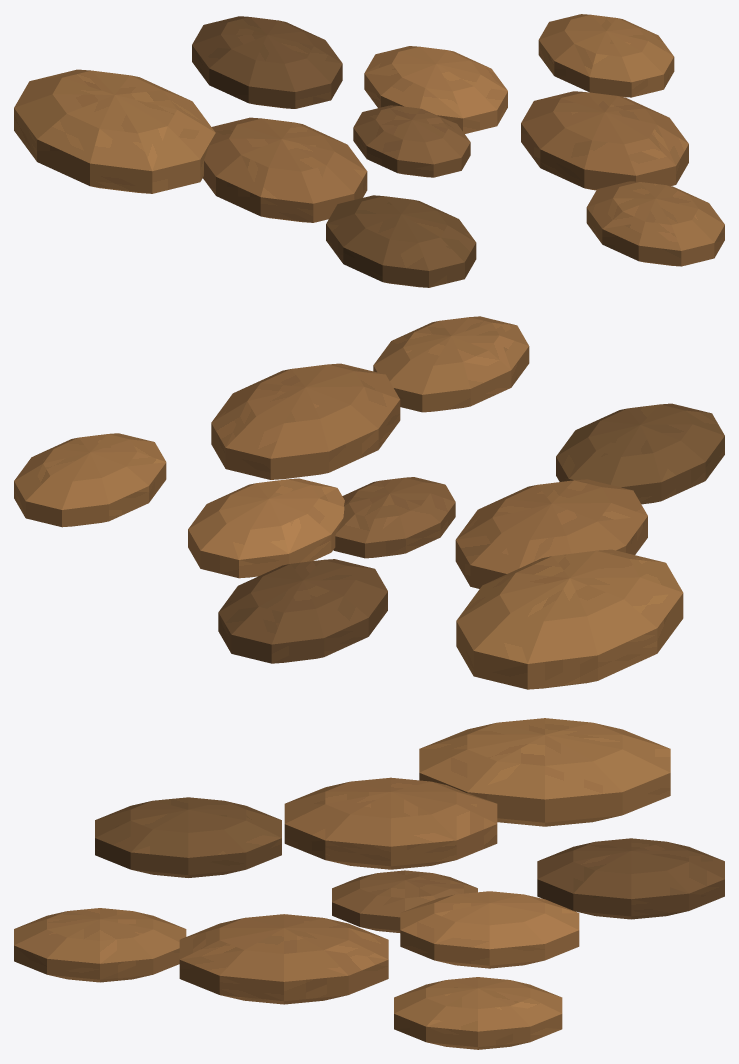
File: seed_barley.glb
3 renders of one model, top to bottom at view 1: azimuth 30°, elevation 25°; view 2: azimuth 150°, elevation 25°; view 3: azimuth 270°, elevation 25°, orthographic. The views are drawn at different scales.
Parts seen in each view (by area): view 1: block_grain 7, block_grain 2, block_grain 3, block_grain 4, block_grain 5, block_grain 8, block_grain 6, block_grain 1, block_grain 0; view 2: block_grain 7, block_grain 3, block_grain 4, block_grain 2, block_grain 5, block_grain 1, block_grain 6, block_grain 8, block_grain 0; view 3: block_grain 7, block_grain 2, block_grain 3, block_grain 4, block_grain 5, block_grain 1, block_grain 8, block_grain 6, block_grain 0.
Part boxes in pixels (bbox=[...]): block_grain 7: bbox=[14, 69, 215, 193]; block_grain 2: bbox=[203, 117, 367, 222]; block_grain 3: bbox=[521, 91, 688, 190]; block_grain 4: bbox=[192, 16, 342, 108]; block_grain 5: bbox=[326, 195, 476, 287]; block_grain 8: bbox=[586, 181, 724, 266]; block_grain 6: bbox=[538, 14, 674, 97]; block_grain 1: bbox=[364, 46, 507, 133]; block_grain 0: bbox=[353, 105, 470, 177]; block_grain 7: bbox=[456, 549, 683, 689]; block_grain 3: bbox=[211, 363, 400, 479]; block_grain 4: bbox=[218, 559, 387, 663]; block_grain 2: bbox=[455, 479, 647, 588]; block_grain 5: bbox=[556, 403, 724, 504]; block_grain 1: bbox=[188, 478, 344, 578]; block_grain 6: bbox=[14, 433, 166, 527]; block_grain 8: bbox=[373, 316, 529, 412]; block_grain 0: bbox=[333, 477, 455, 558]; block_grain 7: bbox=[419, 718, 670, 826]; block_grain 2: bbox=[284, 777, 497, 869]; block_grain 3: bbox=[179, 914, 388, 1004]; block_grain 4: bbox=[537, 838, 724, 919]; block_grain 5: bbox=[95, 797, 281, 877]; block_grain 1: bbox=[400, 891, 579, 968]; block_grain 8: bbox=[14, 908, 186, 982]; block_grain 6: bbox=[394, 977, 562, 1049]; block_grain 0: bbox=[332, 870, 477, 932].
Bounding box in the file's own units: 0.1077 × 0.0129 × 0.1102.
Materials: 1 (1 with a texture image).
